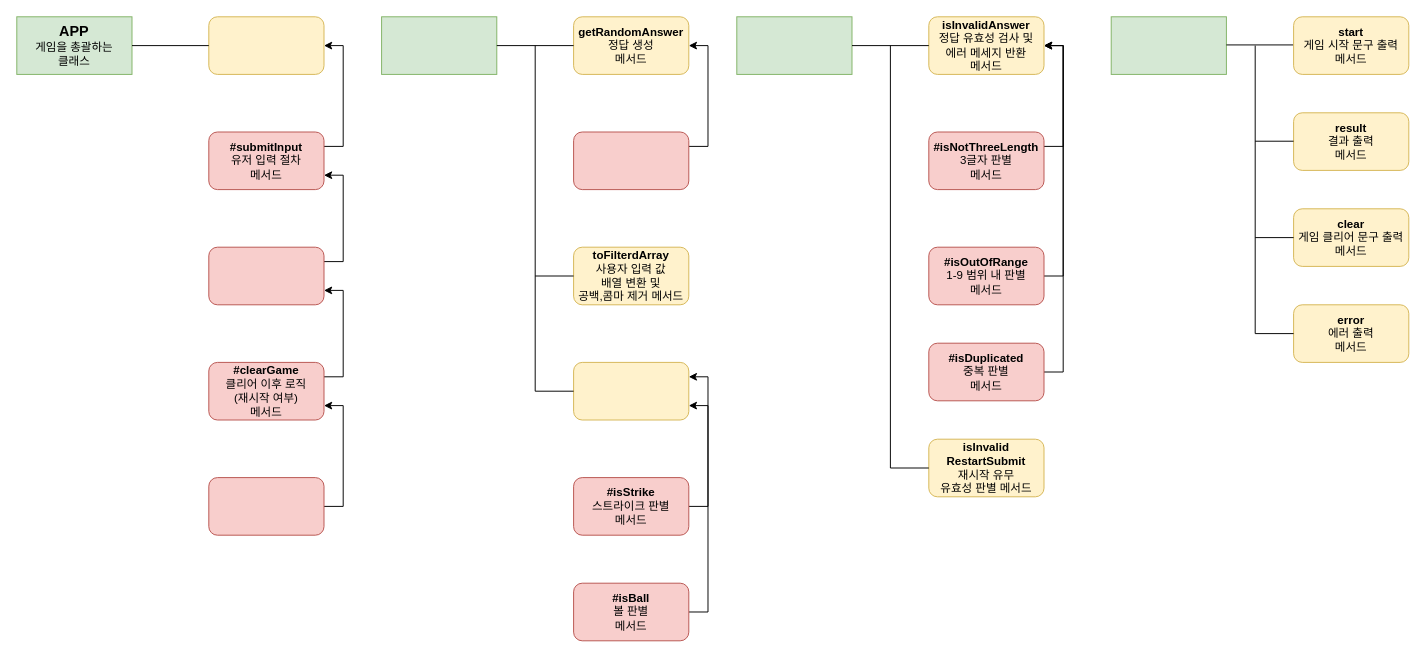
The diagram is 1426 pixels wide and 658 high, and some of its shapes have lost their labels. Here are the shapes that lost their labels. From the top down, the centre of each, then its label:
(x=266, y=45): play 게임 초기화 및 시작 메서드
(x=439, y=45): GameUtils 게임 진행 연산 클래스
(x=794, y=45): Validator 입력값 유효성 검사 클래스
(x=1168, y=45): Print 입력값 유효성 검사 클래스
(x=631, y=160): #addNumber 1-9 랜덤 숫자 추가 메서드
(x=266, y=275): #isClear 게임 클리어 판별 메서드
(x=631, y=390): getResult 입력값에 따른 결과 연산 메서드
(x=266, y=506): #isRestart 재시작 여부 판별 메서드
